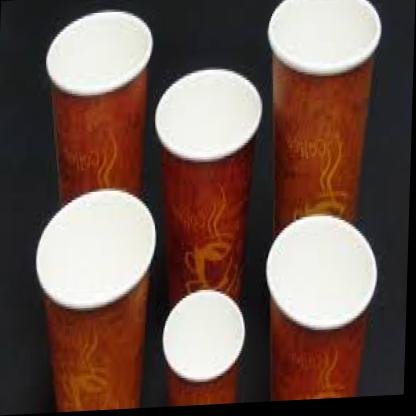Plastic: (0, 0, 411, 415)
